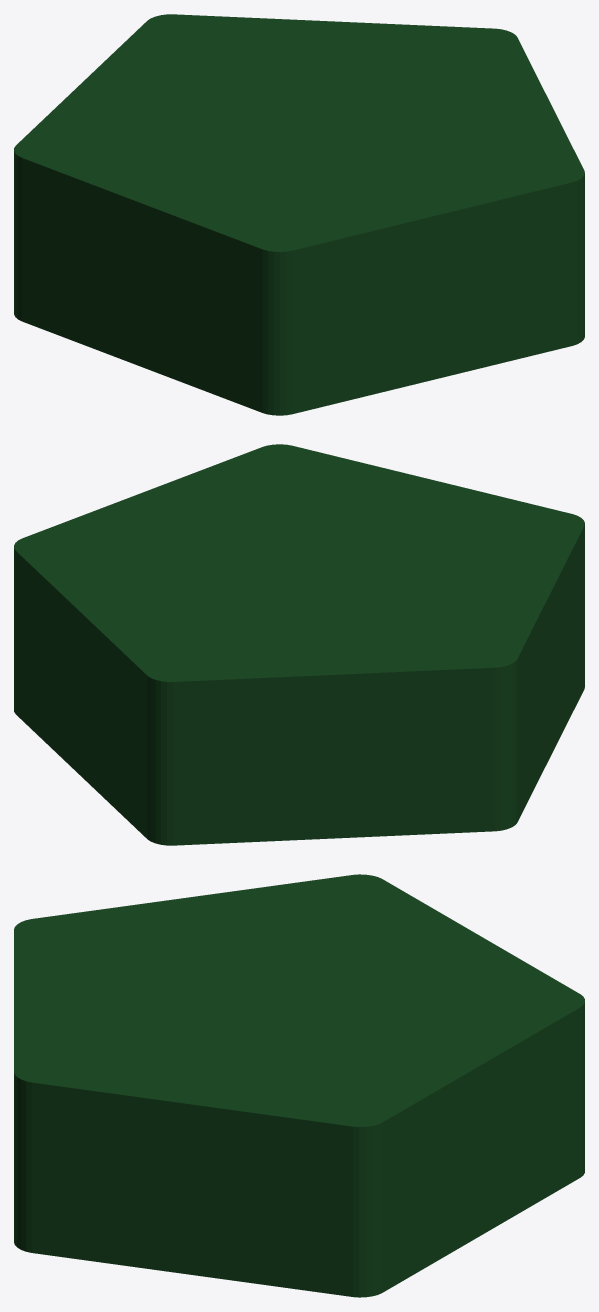
Rendered from hexagon.fbx.
3 views of the same model, one above another, from view 1: azimuth 30°, elevation 25°; view 2: azimuth 150°, elevation 25°; view 3: azimuth 270°, elevation 25° (orthographic). The views are drawn at different scales.
Parts seen in each view (by area): view 1: Cylinder; view 2: Cylinder; view 3: Cylinder.
Boxes of the visible parts, box(x1,y1,x2,y2) form: Cylinder: box(14, 14, 584, 415); Cylinder: box(14, 444, 584, 845); Cylinder: box(14, 874, 584, 1297).
Size of the model in its own units: 1.87 by 0.5889 by 1.79.
